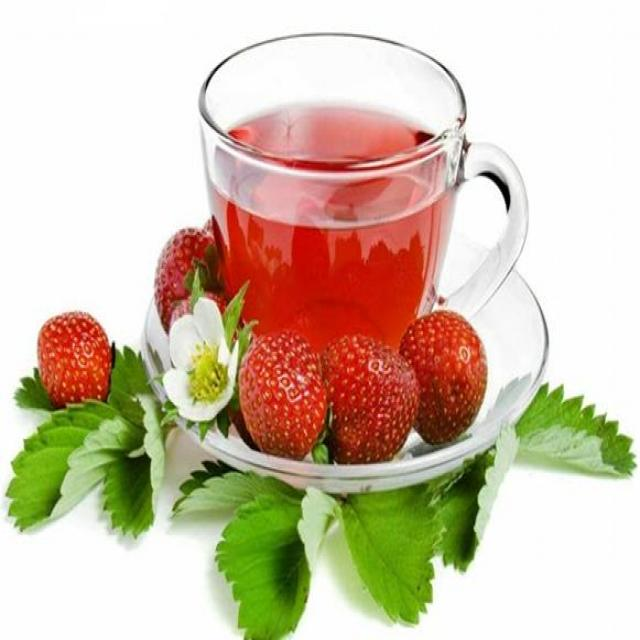strawberry: (327, 336, 421, 466), (237, 330, 325, 461), (416, 312, 494, 448), (36, 309, 117, 417), (156, 222, 222, 321)
